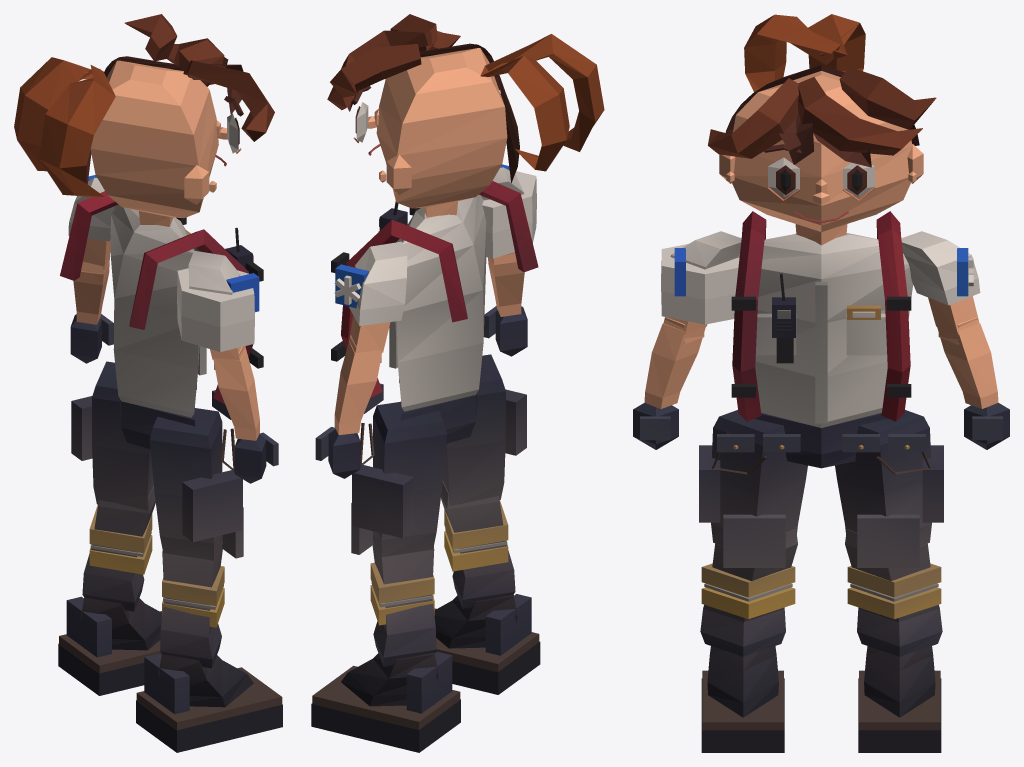
Rendered from npc.rosa.aftermath.lod2.glb.
3 renders of one model, left to right at view 1: azimuth 30°, elevation 25°; view 2: azimuth 150°, elevation 25°; view 3: azimuth 270°, elevation 25°, orthographic.
Parts seen in each view (by area): view 1: head, torso, legR, footR, footL, armR, legL, shinR, shinL, foreArmR, hip, foreArmL (+3 smaller); view 2: head, torso, legL, footL, footR, legR, shinL, shinR, armL, foreArmL, armR, hip (+3 smaller); view 3: torso, head, legL, legR, footL, footR, shinR, shinL, armR, hip, armL, foreArmR (+3 smaller).
Part boxes in pixels (x1,y1,x2,y2): head: [14, 14, 274, 226]; torso: [60, 191, 263, 417]; legR: [149, 408, 243, 560]; footR: [136, 653, 282, 752]; footL: [58, 596, 161, 695]; armR: [177, 250, 259, 360]; legL: [71, 361, 153, 510]; shinR: [160, 540, 224, 668]; shinL: [82, 486, 155, 611]; foreArmR: [213, 346, 259, 440]; hip: [119, 386, 234, 471]; foreArmL: [73, 254, 109, 324]; head: [327, 14, 604, 217]; torso: [331, 181, 538, 411]; legL: [351, 401, 446, 557]; footL: [311, 651, 460, 752]; footR: [434, 594, 540, 694]; legR: [443, 354, 526, 505]; shinL: [370, 535, 436, 666]; shinR: [441, 480, 515, 608]; armL: [334, 241, 407, 353]; foreArmL: [334, 335, 382, 434]; armR: [481, 164, 536, 258]; hip: [360, 380, 477, 466]; torso: [731, 211, 913, 428]; head: [708, 14, 936, 245]; legL: [835, 410, 943, 567]; legR: [699, 410, 807, 567]; footL: [858, 646, 941, 752]; footR: [701, 646, 784, 752]; shinR: [700, 529, 797, 656]; shinL: [845, 529, 942, 656]; armR: [661, 231, 741, 334]; hip: [712, 412, 930, 474]; armL: [901, 231, 980, 334]; foreArmR: [644, 317, 705, 408].
Size of the model in its own units: 0.6159 by 1.77 by 0.9105.
